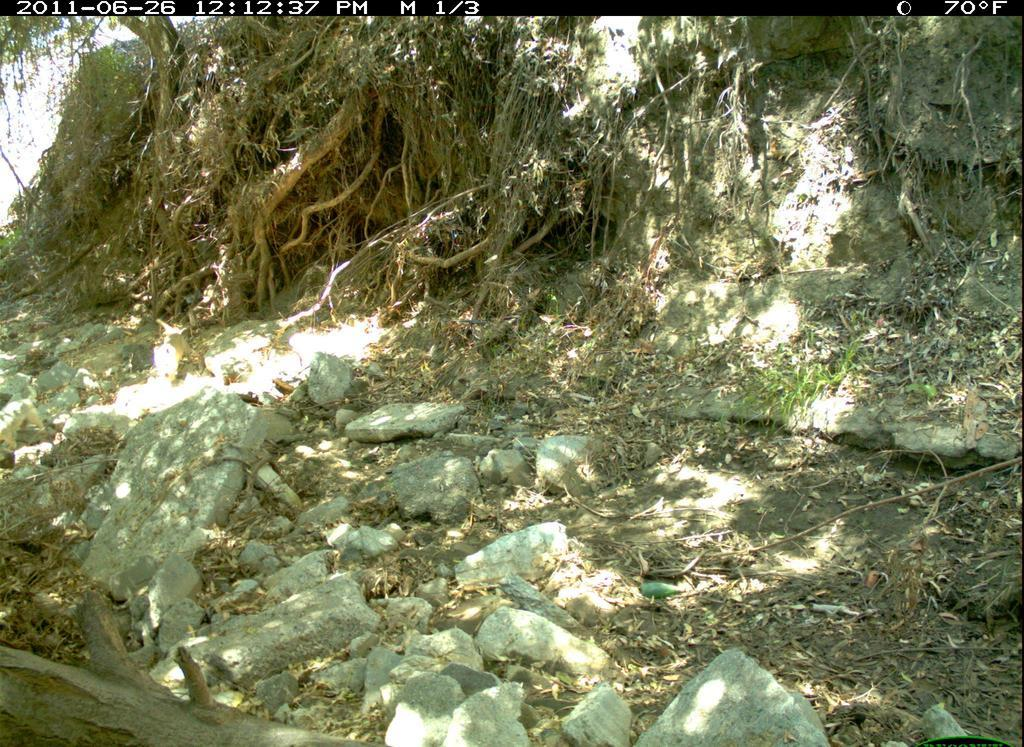dog: (149, 315, 190, 382)
